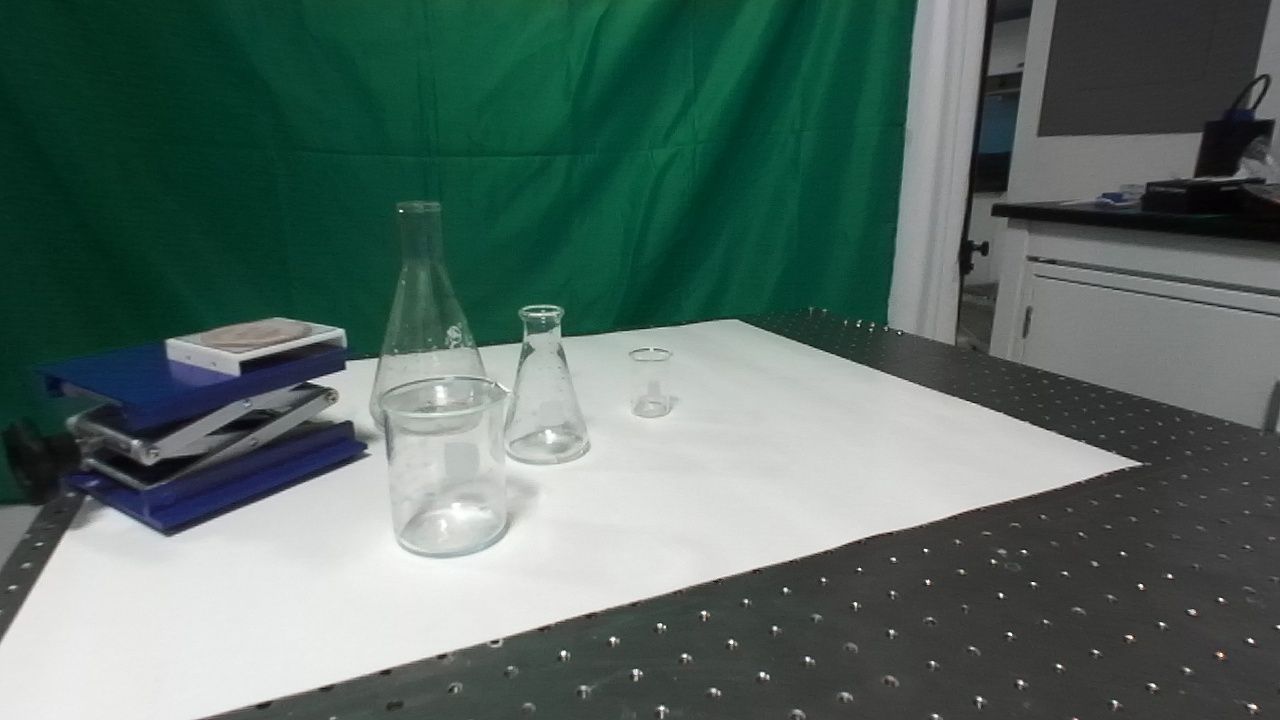glass: (366, 196, 500, 438), (373, 371, 515, 564), (497, 299, 595, 470), (622, 344, 677, 421)
plate: (160, 312, 350, 379)
